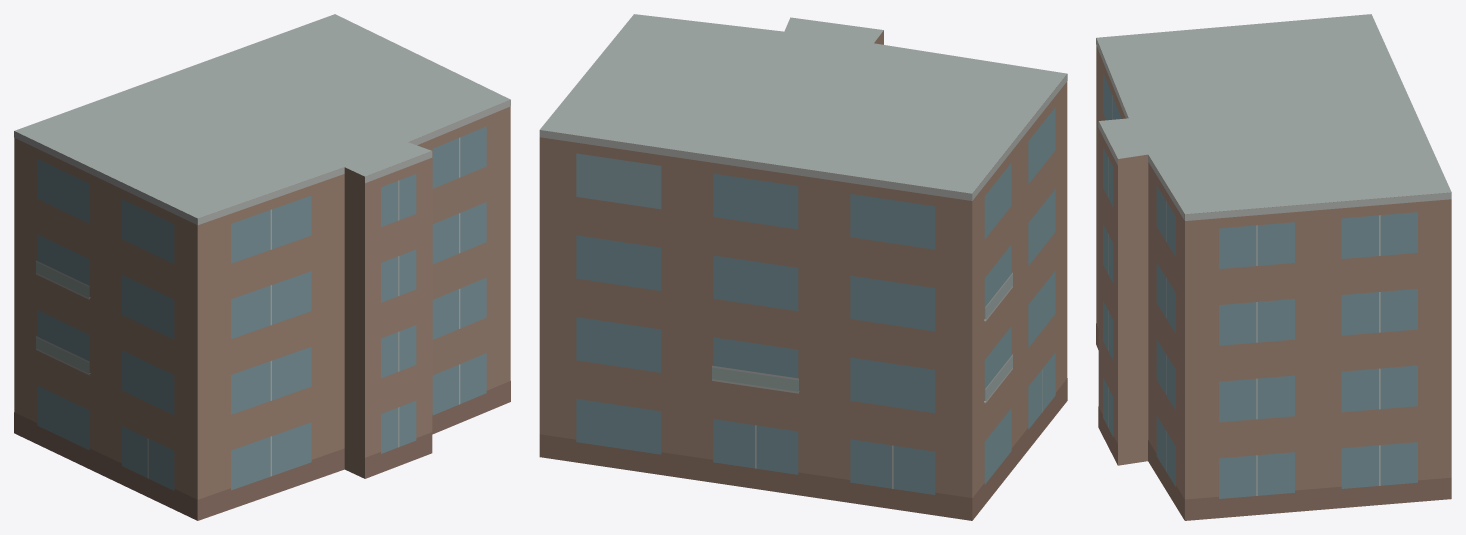
File: survey-upis-32725451.glb
The picture shows the model from 3 angles, left to right: view 1: azimuth 30°, elevation 25°; view 2: azimuth 150°, elevation 25°; view 3: azimuth 270°, elevation 25°; orthographic projection. The views are drawn at different scales.
Parts seen in each view (by area): view 1: survey-upis-32725451.tmp; view 2: survey-upis-32725451.tmp; view 3: survey-upis-32725451.tmp.
Part boxes in pixels (x1=…): survey-upis-32725451.tmp: x1=14, y1=14, x2=510, y2=520; survey-upis-32725451.tmp: x1=539, y1=14, x2=1067, y2=520; survey-upis-32725451.tmp: x1=1096, y1=14, x2=1451, y2=520.
Bounding box in the file's own units: 15.33 × 10.94 × 11.51.
